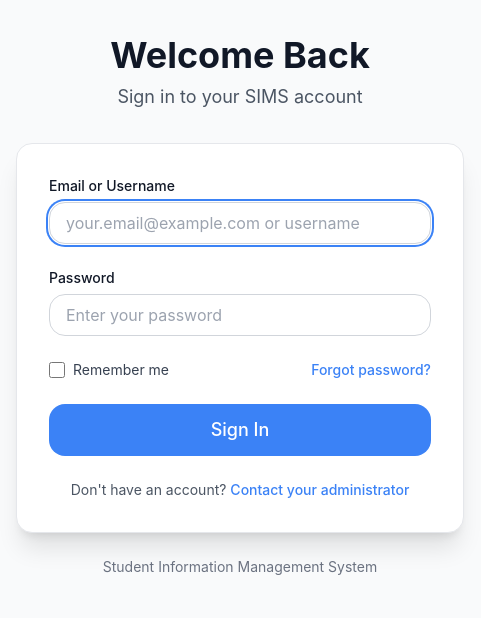
LoginPage › should show validation errors for empty fields
Step 1. Click the button "Sign In" → [240, 430], box [49,404,431,456]
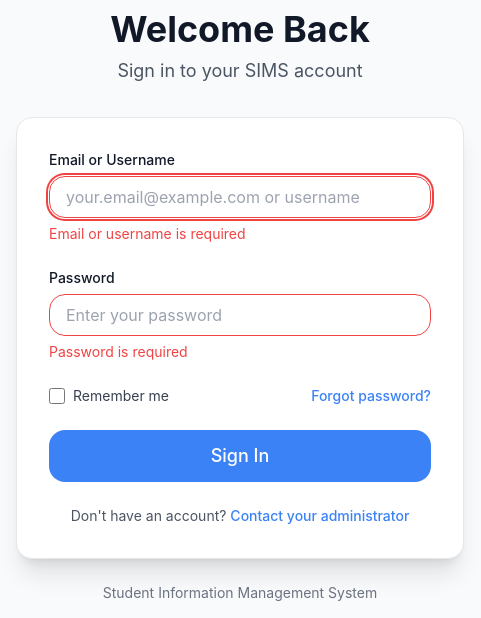
Expected: the text "Email or username is required" is shown, [49,225,246,242]
Expected: the text "Password is required" is shown, [49,343,188,360]
